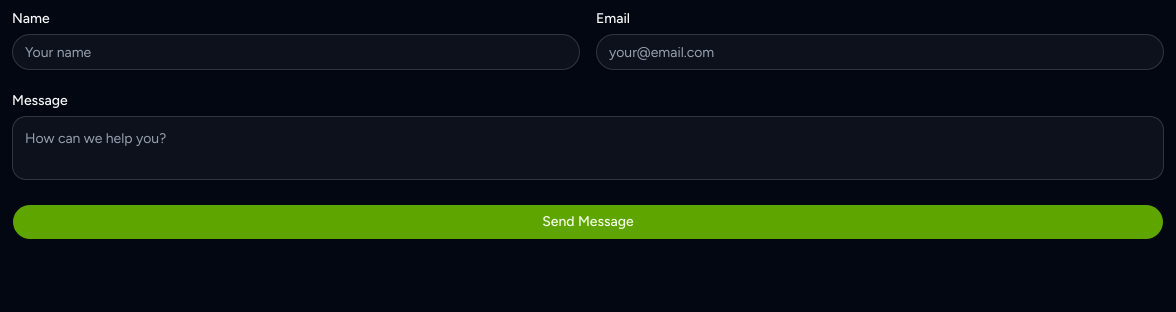
Test: ContactForm › shows field errors when API returns 400 with validation details
Type "John Doe" into the field labelled "Name" at (296, 52), box [12,34,580,70]
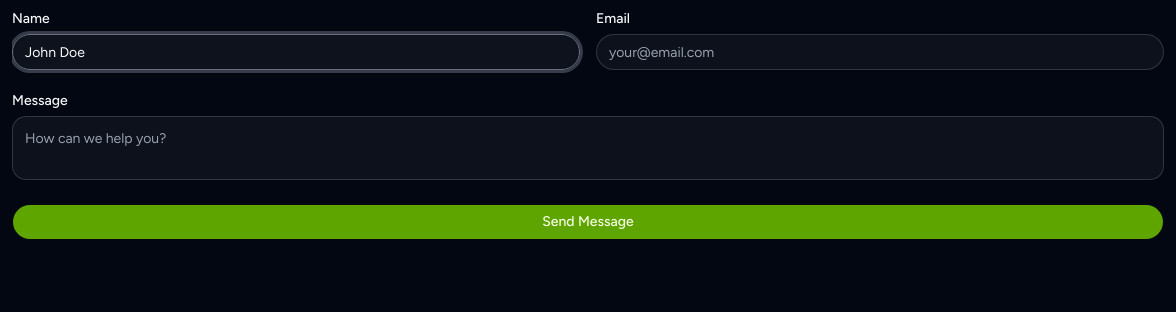
Type "invalid-email" into the field labelled "Email" at (880, 52), box [596,34,1164,70]
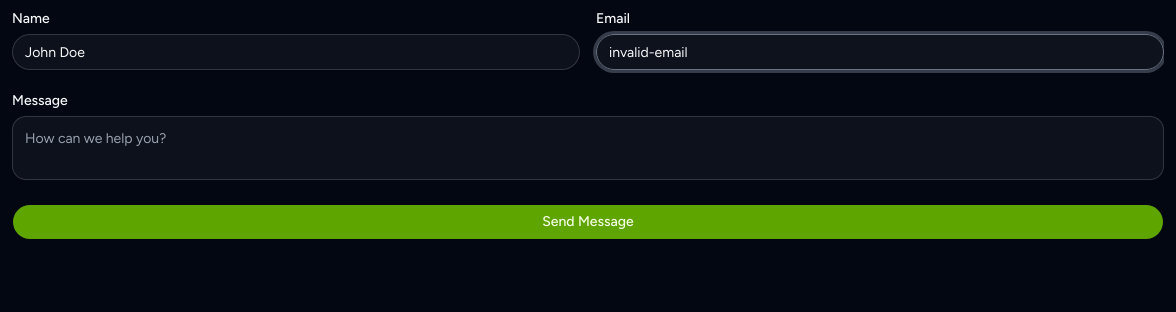
Type "Short" into the text box labelled "Message" at (588, 148), box [12,116,1164,180]
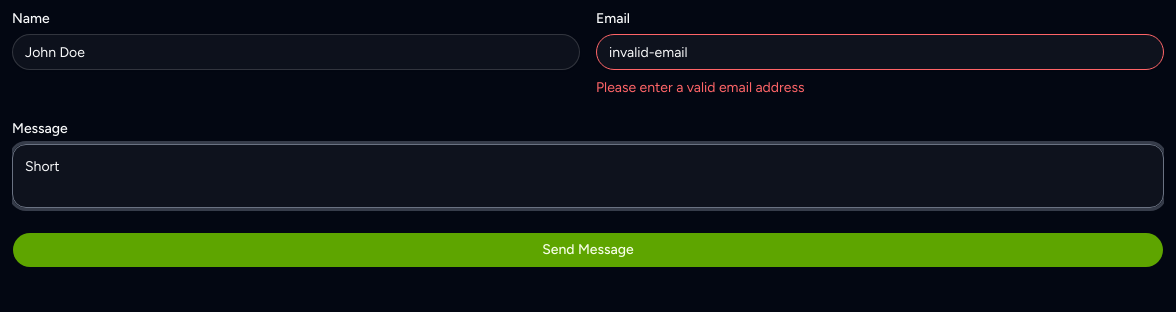
Click the button "Send Message" at (588, 250), box [12,232,1164,268]
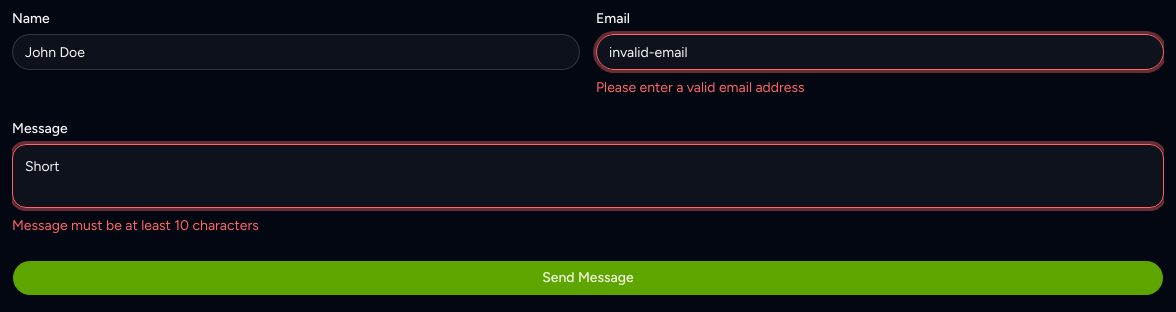
Expected: the text "Please enter a valid email address" is shown, [596,79,804,96]
Expected: the text "Message must be at least 10 characters" is shown, [12,217,259,234]
